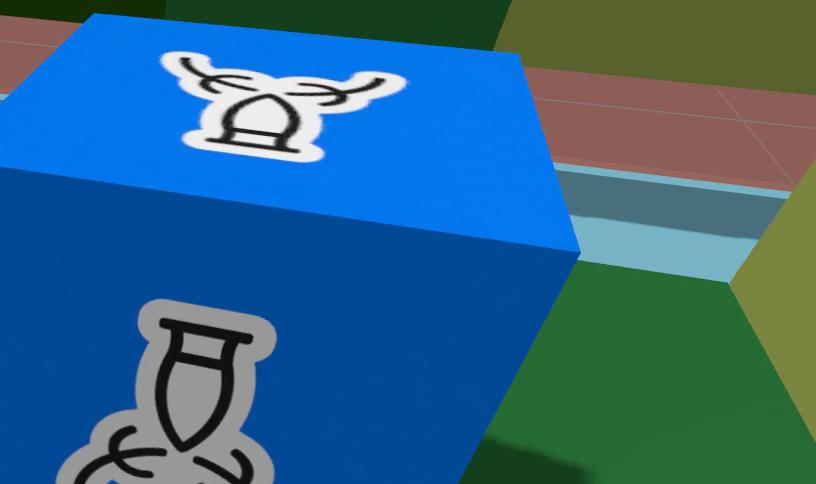KFS_REAL: (0, 15, 577, 484), (57, 299, 276, 484), (161, 51, 407, 162)
